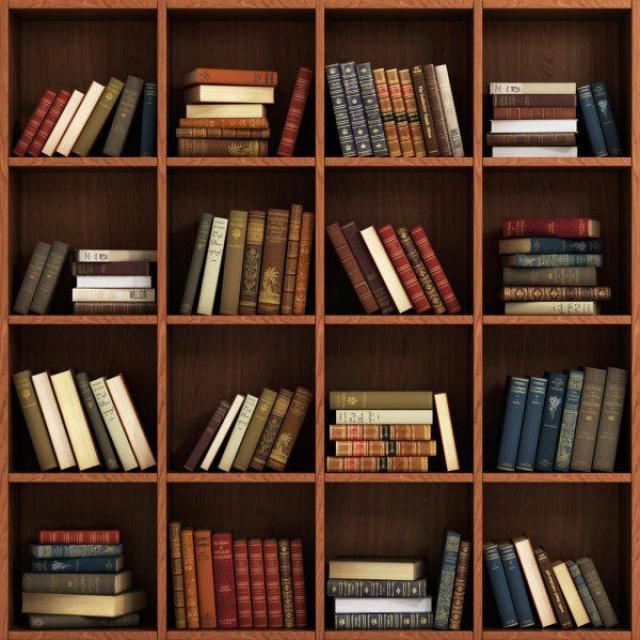book: (345, 72, 366, 146), (332, 394, 427, 408), (27, 596, 124, 609), (217, 540, 230, 625), (330, 427, 426, 438), (338, 412, 430, 423), (495, 120, 576, 132), (229, 217, 239, 307), (201, 536, 211, 626), (202, 86, 271, 98), (28, 575, 117, 584), (506, 223, 584, 233), (45, 532, 114, 543), (339, 444, 432, 452), (331, 459, 424, 467), (495, 82, 575, 91), (496, 95, 575, 104), (200, 71, 275, 80), (494, 108, 576, 116), (173, 533, 180, 618), (77, 290, 151, 298), (82, 252, 153, 260), (78, 277, 149, 285), (585, 385, 592, 465), (79, 265, 147, 273), (42, 547, 117, 554), (146, 86, 153, 156), (191, 105, 257, 112), (41, 561, 113, 567)
